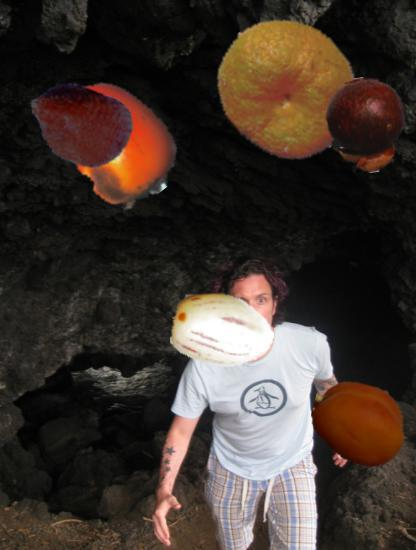Apricot: (311, 376, 407, 472)
Kaki: (50, 74, 185, 209)
Mandarine: (213, 15, 360, 162)
Mangostan: (319, 77, 415, 173)
Pepino: (170, 276, 274, 380)
Salak: (25, 71, 134, 180)
